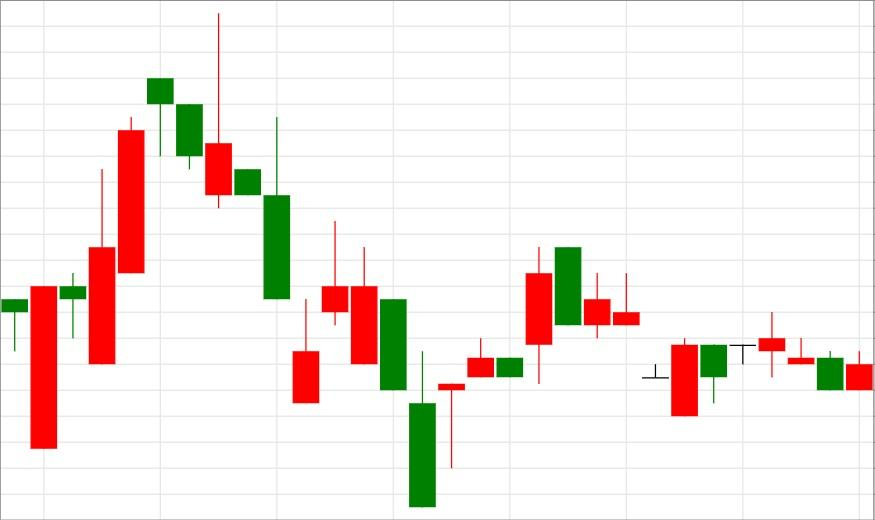hanging_man_fall: (30, 78, 175, 449)
